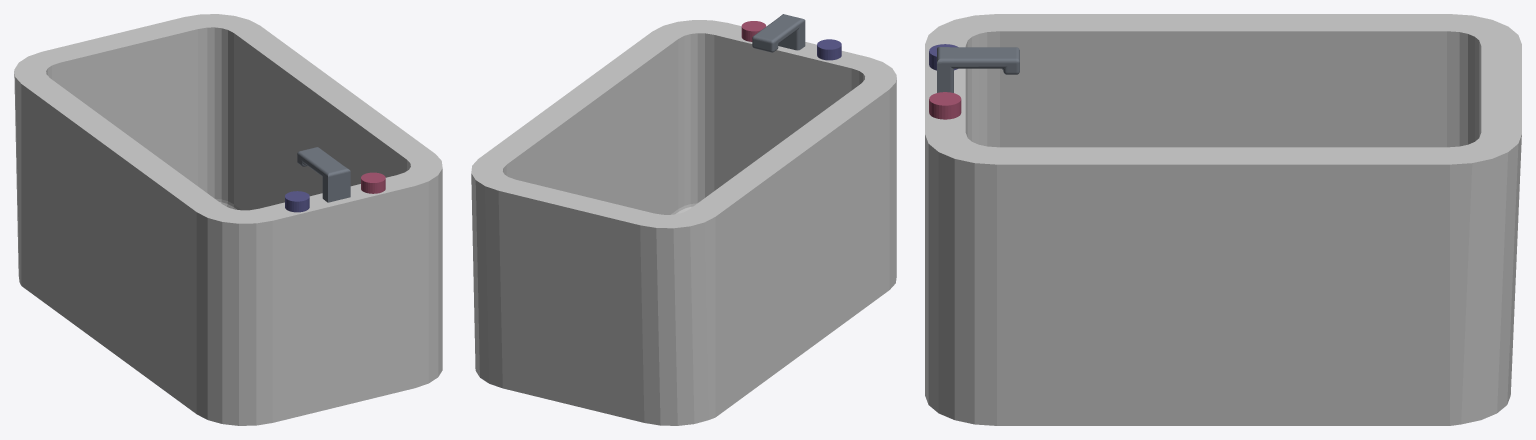
The model's file is amme_GJ22.fbx.
3 renders of one model, left to right at view 1: azimuth 30°, elevation 25°; view 2: azimuth 150°, elevation 25°; view 3: azimuth 270°, elevation 25°, orthographic. The views are drawn at different scales.
Visible parts, largest first — view 1: Amme; view 2: Amme; view 3: Amme.
Part boxes in pixels (<box>): Amme: <box>14,14,442,425</box>; Amme: <box>471,14,896,425</box>; Amme: <box>925,14,1521,425</box>.
Size of the model in its own units: 119 by 110 by 200.
